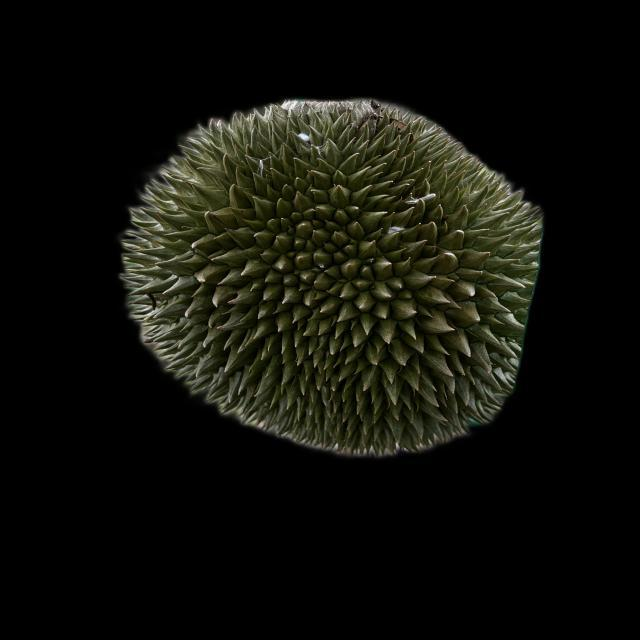immature: (121, 97, 540, 463)
